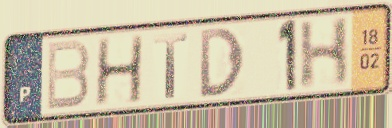1: (274, 16, 300, 97)
B: (44, 38, 92, 114)
D: (198, 24, 247, 101)
H: (297, 14, 353, 93), (92, 32, 145, 109)
T: (152, 31, 191, 101)
